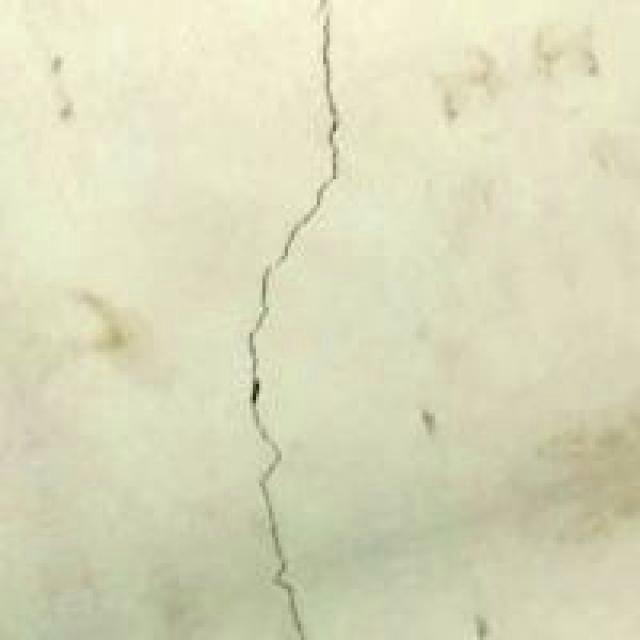SurfaceCrack: (202, 0, 376, 640)
